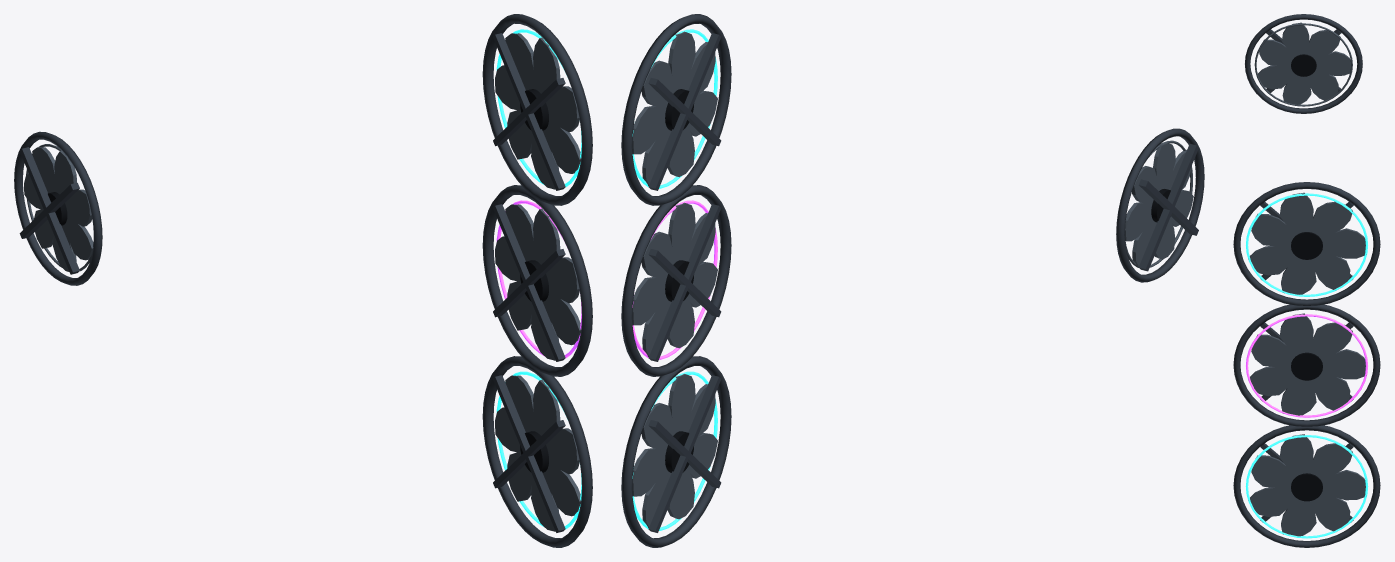
The model's file is pc-fans.glb.
3 views of the same model, side by side, from view 1: azimuth 30°, elevation 25°; view 2: azimuth 150°, elevation 25°; view 3: azimuth 270°, elevation 25° (orthographic). The views are drawn at different scales.
Parts seen in each view (by area): view 1: fans (×34); view 2: fans (×32); view 3: fans (×40).
Boxes of the visible parts, x1,y1,x2,y2 form: fans (×34): (14,14,592,547); fans (×32): (621,14,1204,547); fans (×40): (1233,14,1380,547).
Size of the model in its own units: 4.13 by 4.12 by 1.49.
